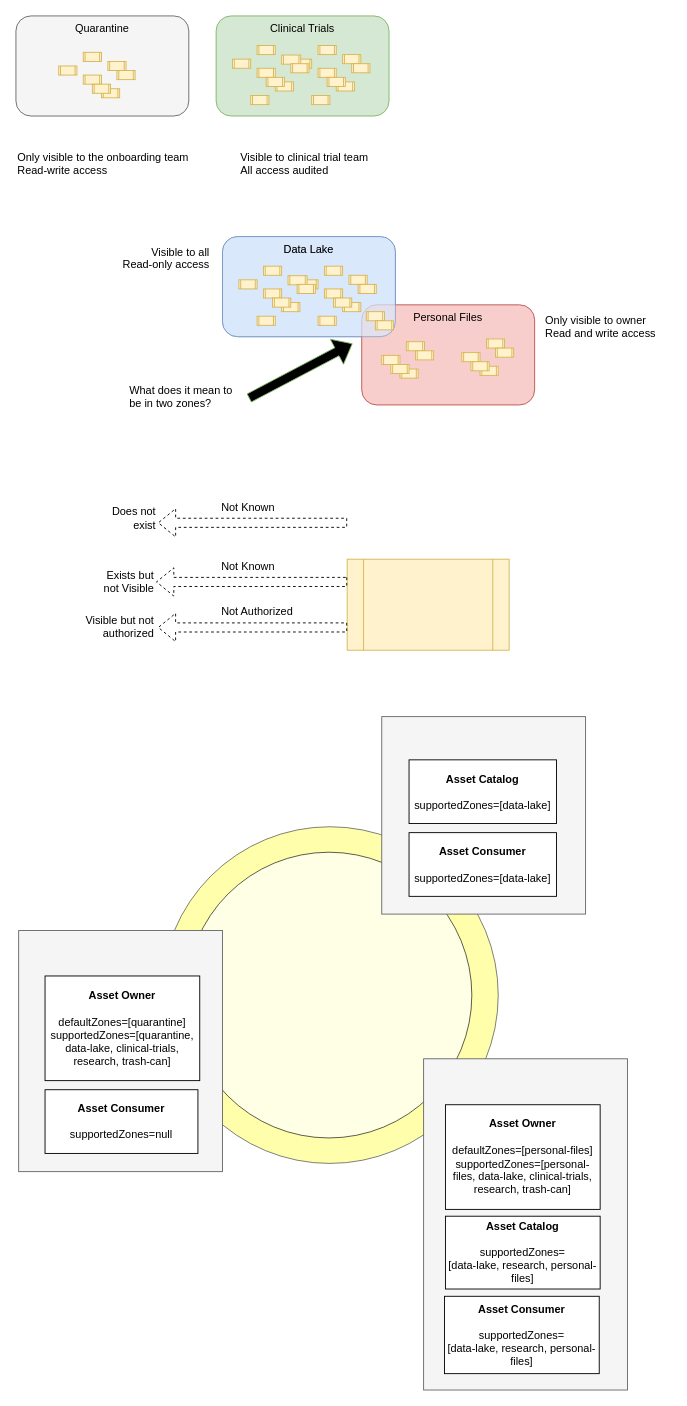
This 687x1406 diagram has some shape labels left out. The box of each missing label's shape, as (x1, y1, x2, y2) in pixels:
Asset: (346, 558, 509, 650)
cocoCohort: (185, 851, 472, 1138)
Data Lake Metadata Server (cocoMDS3): (381, 716, 586, 914)
Data Operations Metadata Server (cocoMDS1): (18, 930, 222, 1172)
Research Metadata Server (cocoMDS2): (423, 1058, 627, 1390)
